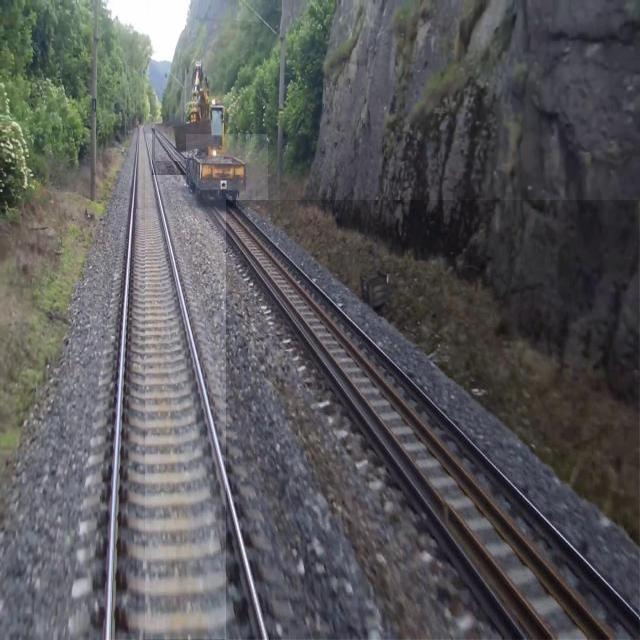rail: (227, 202, 640, 640), (209, 203, 558, 640), (146, 136, 269, 640), (104, 129, 139, 640), (154, 129, 187, 176), (157, 128, 187, 162)
